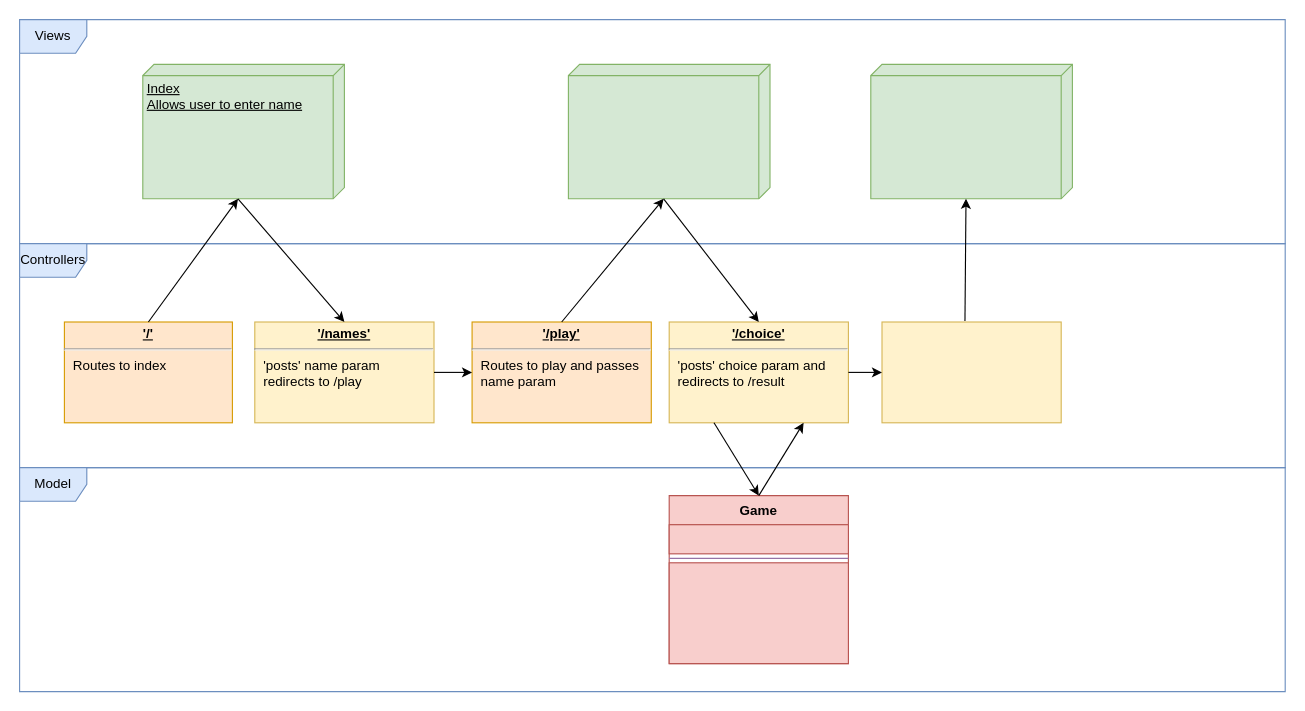
The diagram is 1305 pixels wide and 711 high, and some of its shapes have lost their labels. Here are the shapes that lost their labels. From the top down, the centre of each, then its label:
At [668,131]: "Play Shows player name Gives player a choice RPS".
At [971,131]: "Result Shows result of game".
At [971,372]: "'/result' Routes to results and passes result of game".
At [758,539]: "+ choice: string".
At [758,613]: "+ computer_choice +play Returns result of game".
